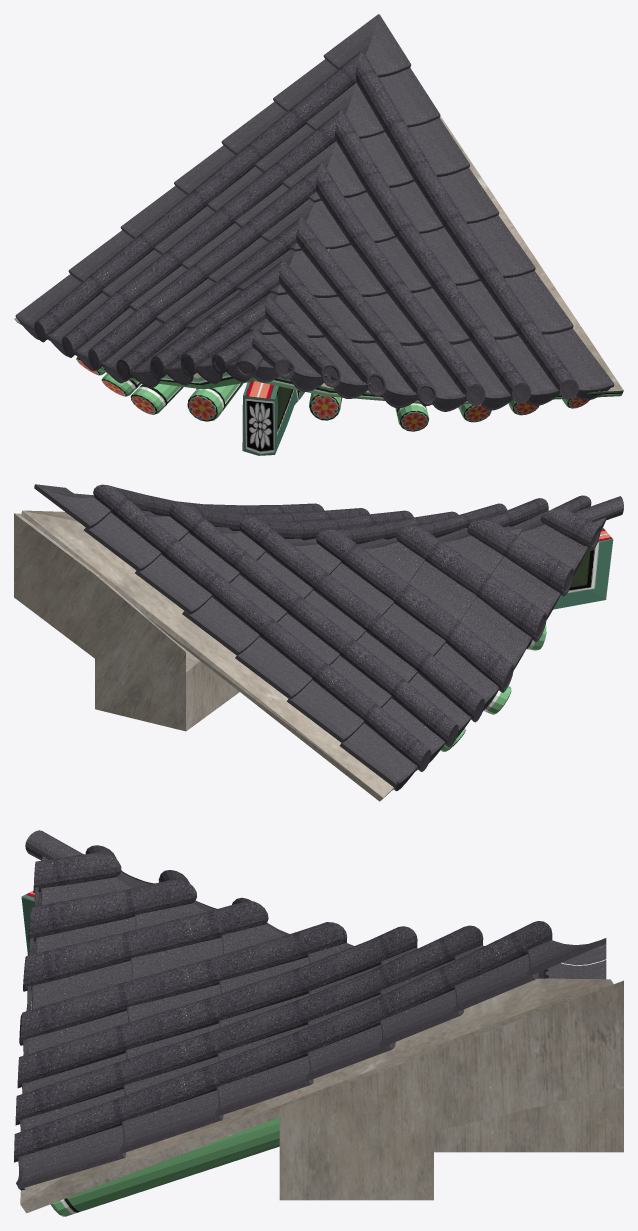
File: SM_R_RoofCorner_18.fbx
The picture shows the model from 3 angles, top to bottom: view 1: azimuth 30°, elevation 25°; view 2: azimuth 150°, elevation 25°; view 3: azimuth 270°, elevation 25°; orthographic projection. The views are drawn at different scales.
Visible parts, largest first — view 1: SM_R_RoofCorner_18; view 2: SM_R_RoofCorner_18; view 3: SM_R_RoofCorner_18.
Boxes of the visible parts, bbox=[...] form: SM_R_RoofCorner_18: bbox=[14, 14, 623, 455]; SM_R_RoofCorner_18: bbox=[14, 484, 623, 801]; SM_R_RoofCorner_18: bbox=[14, 830, 623, 1216].
Bounding box in the file's own units: 268 × 296 × 164.
Materials: 4 (4 with a texture image).
